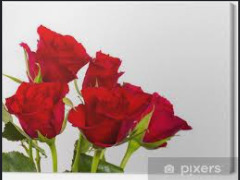RedRose: (73, 80, 137, 150), (7, 80, 69, 143), (23, 19, 83, 79), (133, 92, 194, 150), (88, 43, 122, 87)
